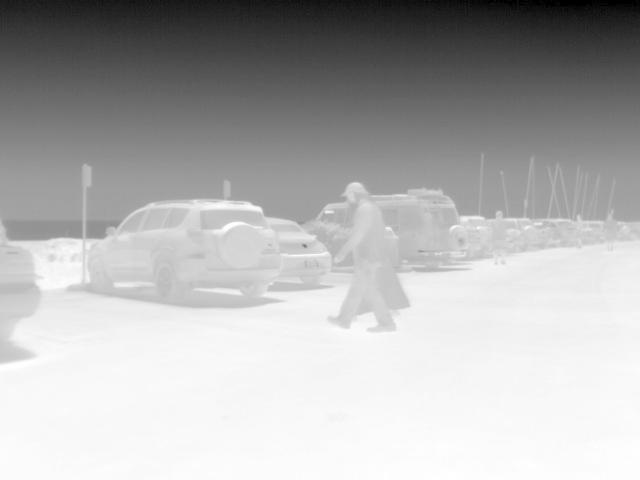car: (87, 199, 280, 301), (366, 186, 469, 269), (267, 214, 333, 288), (3, 221, 42, 343), (298, 198, 349, 255), (533, 216, 576, 244), (504, 216, 536, 250), (460, 214, 492, 246), (613, 220, 631, 242), (586, 218, 605, 236)
person: (325, 180, 399, 334), (491, 209, 510, 265), (600, 211, 619, 250), (572, 213, 586, 248)
